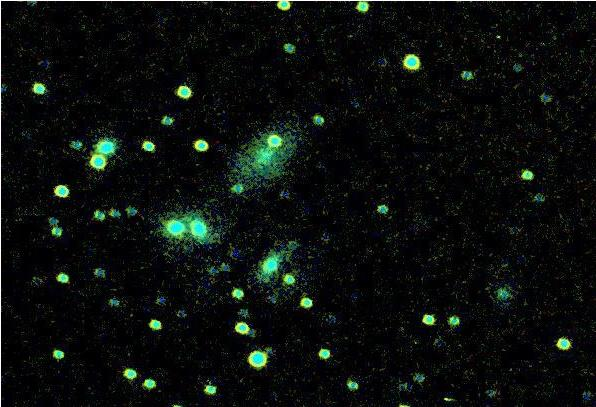star: (252, 263, 282, 293)
